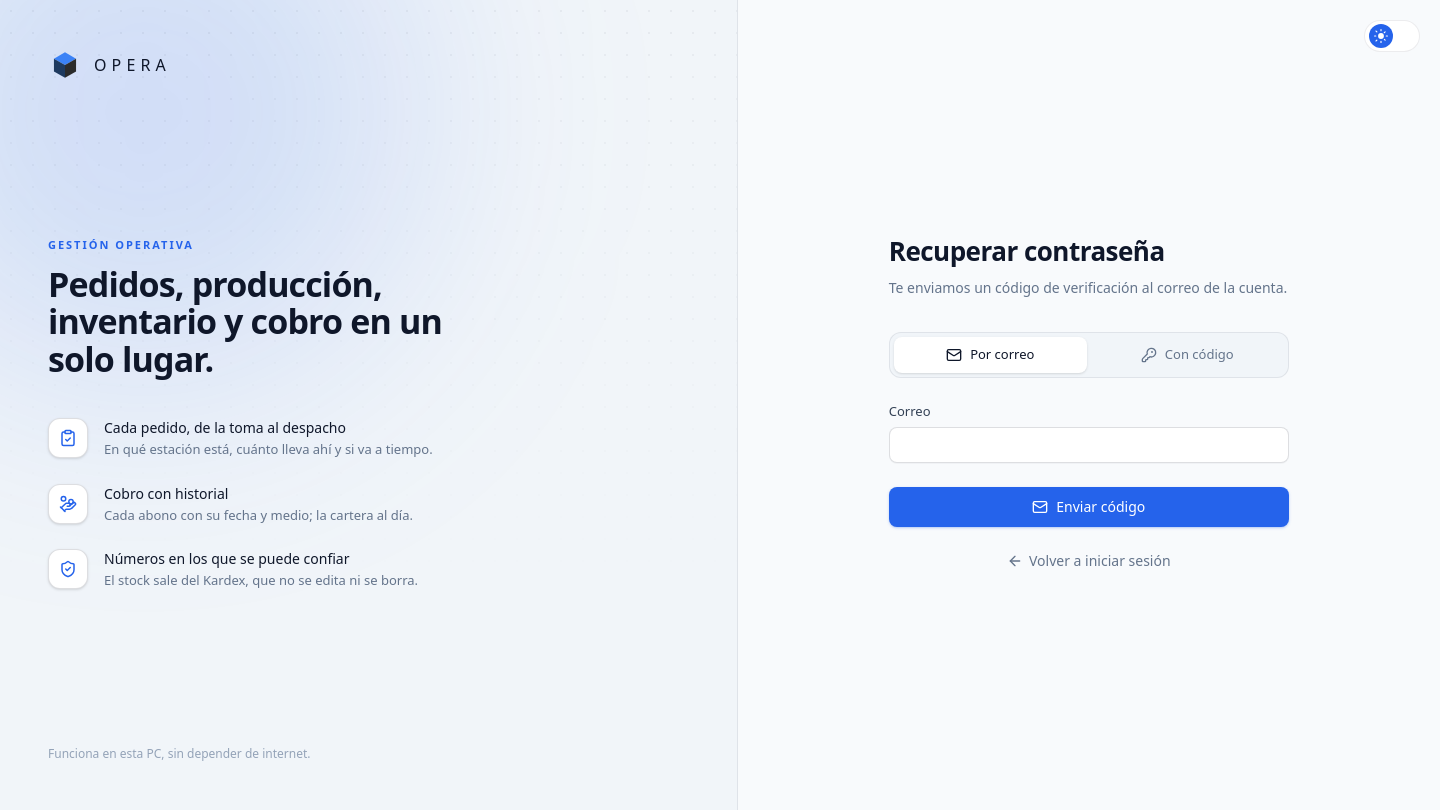
Scenario: ForgotPasswordPage › shows a generic error when requesting the code fails (step 1)
Expected: the button "Enviar código" is shown, [889, 487, 1289, 527]
Step 1. Type "admin@opera.local" into the field labelled "Correo" → (1089, 445), box [889, 427, 1289, 463]
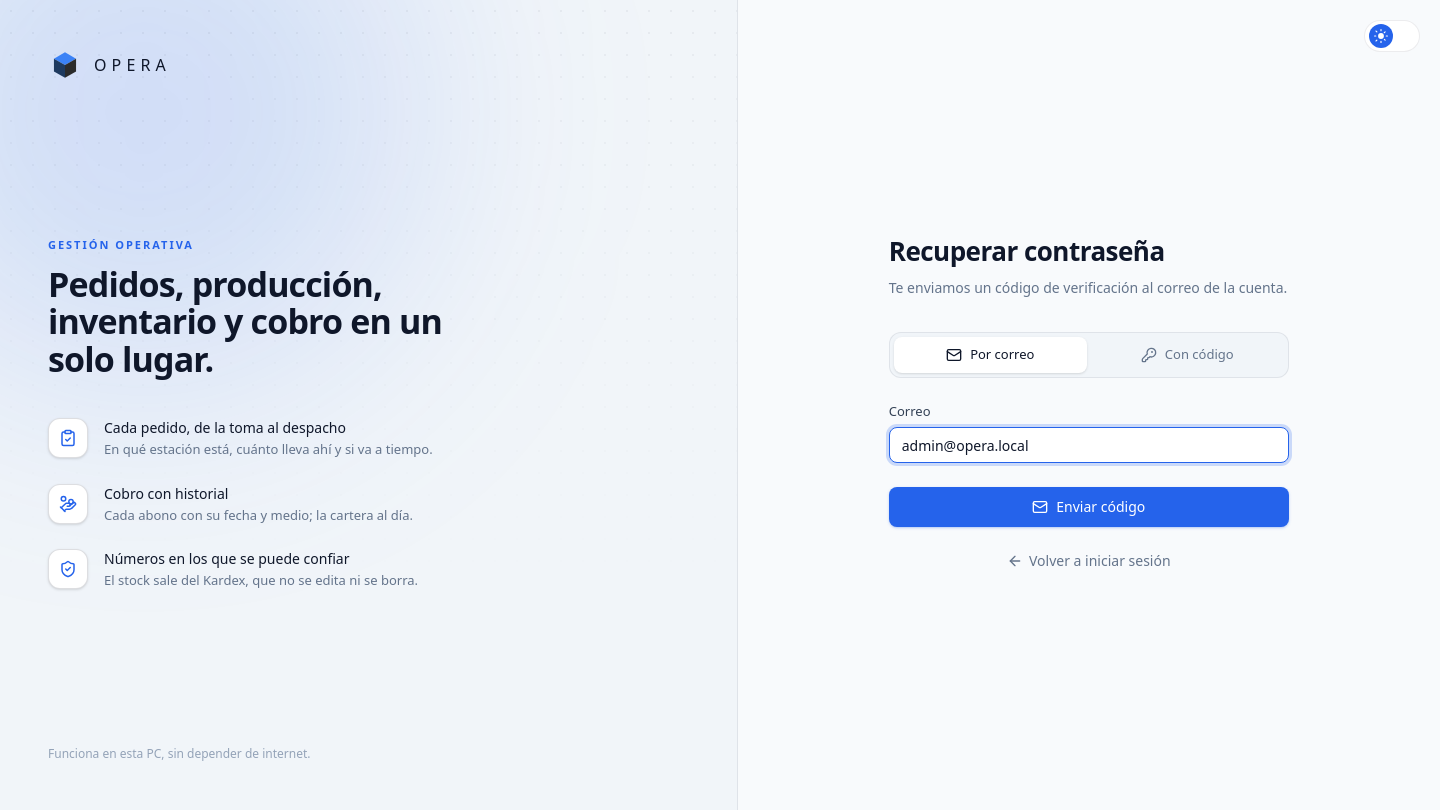
Step 2. Click the button "Enviar código" → (1089, 507), box [889, 487, 1289, 527]
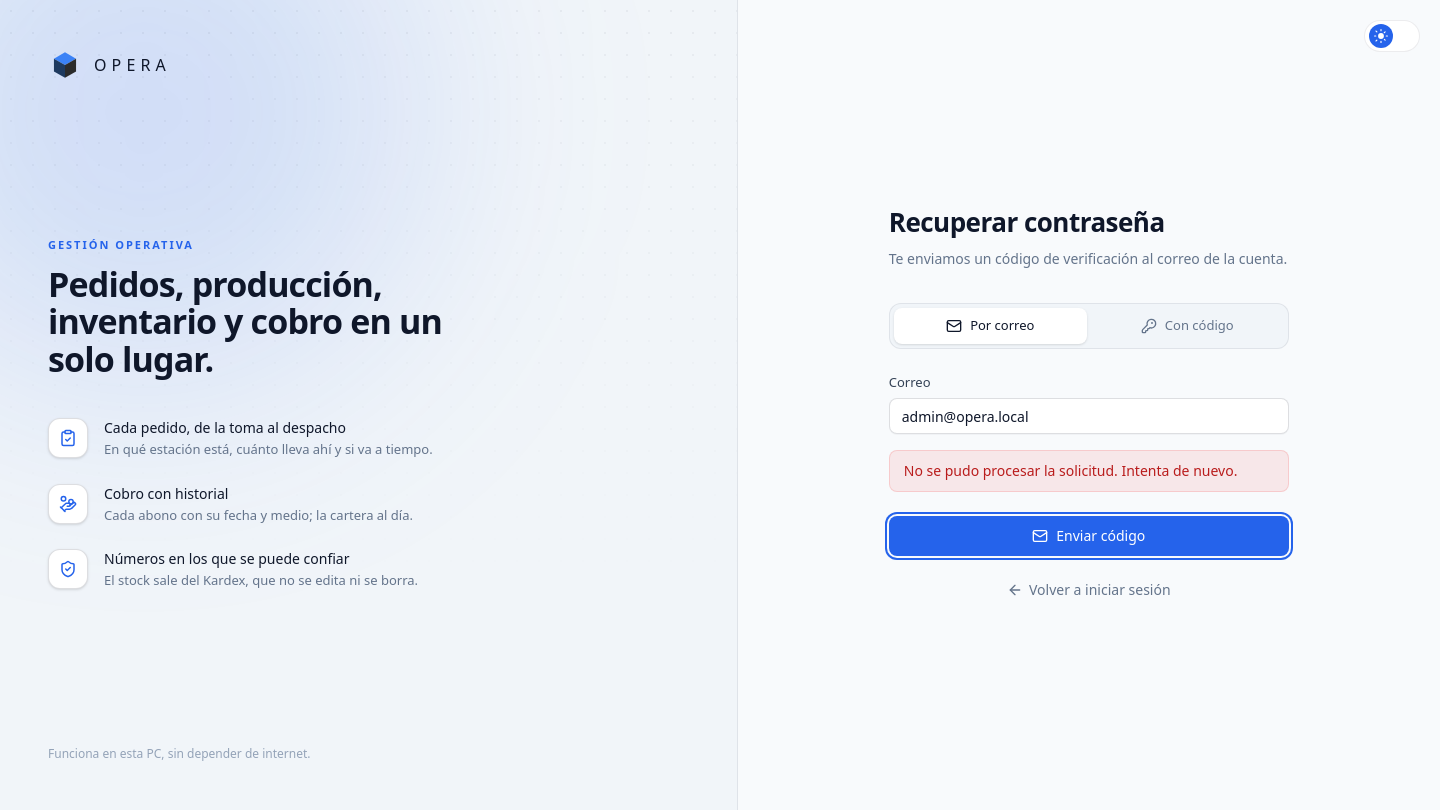
Expected: the text "No se pudo procesar la solicitud. Intenta de nuevo." is shown, [889, 450, 1289, 492]
